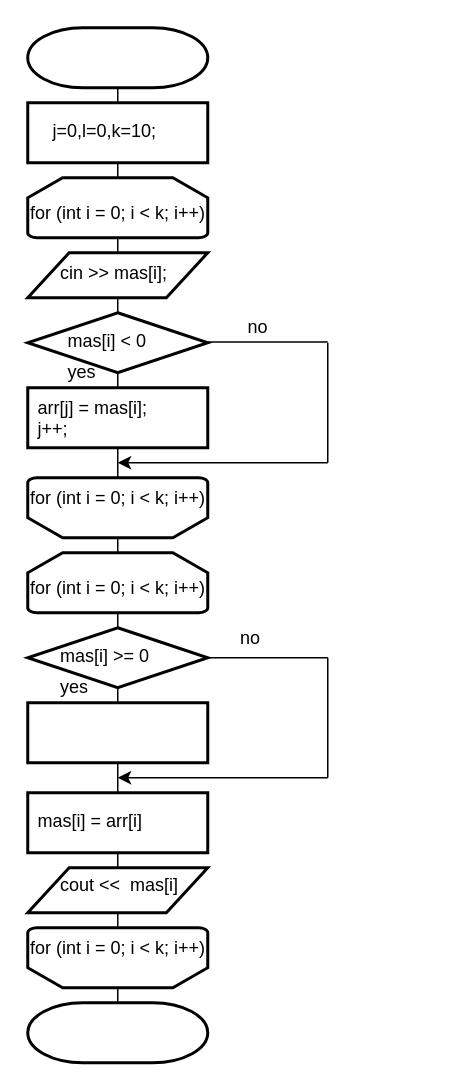
This 458x1089 diagram has some shape labels left out. Each missing label, with the centre of its shape:
"arr[j + l] = mas[i]; l++;" goes at point (117, 732).
"Begin" goes at point (117, 57).
"end" goes at point (117, 1032).
